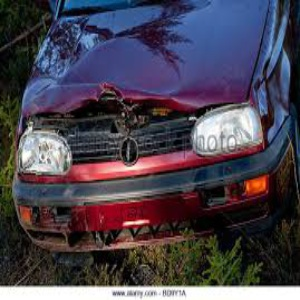bonnet: (62, 66, 234, 112)
